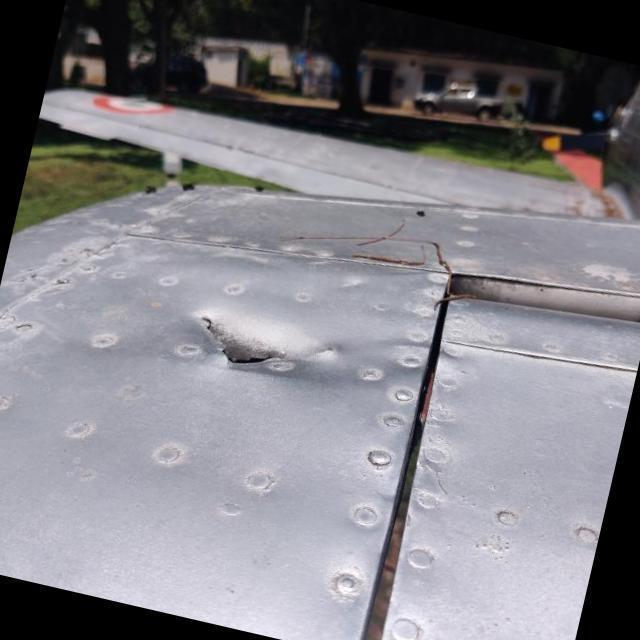Rupture: (169, 282, 330, 409)
